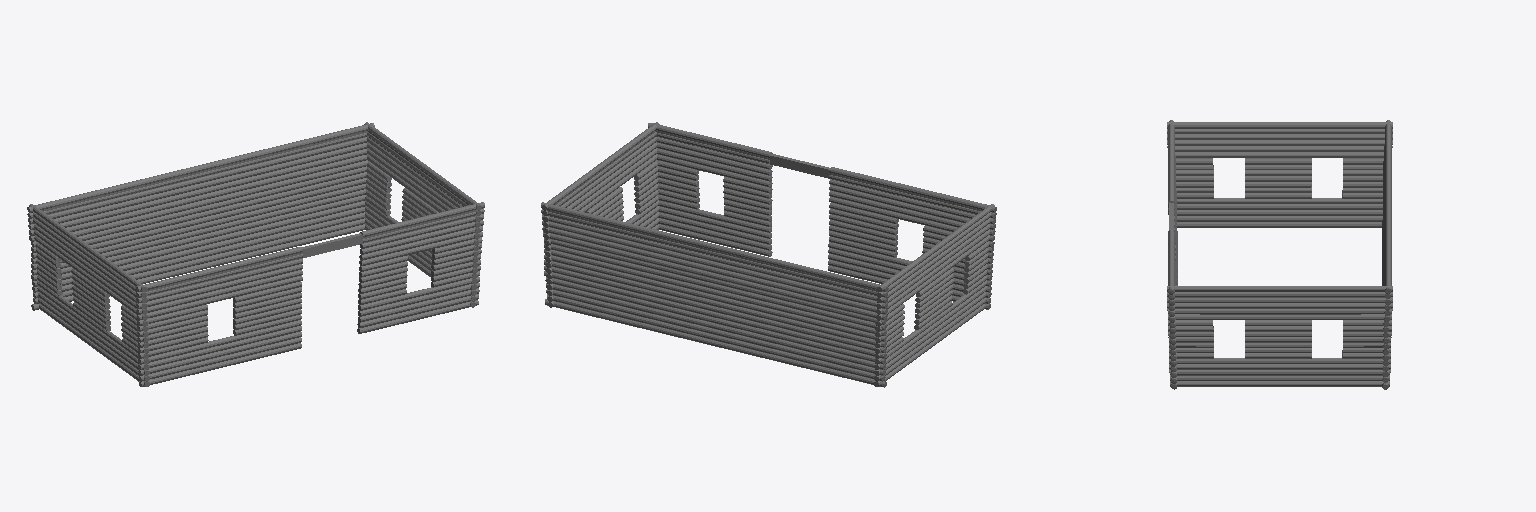
The model's file is house_walls_OBJ.obj.
3 views of the same model, side by side, from view 1: azimuth 30°, elevation 25°; view 2: azimuth 150°, elevation 25°; view 3: azimuth 270°, elevation 25° (orthographic).
Parts seen in each view (by area): view 1: Walls; view 2: Walls; view 3: Walls.
Boxes of the visible parts, <box> form: Walls: <box>27,122,484,386</box>; Walls: <box>541,122,996,387</box>; Walls: <box>1167,120,1392,389</box>.
Size of the model in its own units: 3.19 by 0.9064 by 1.8.